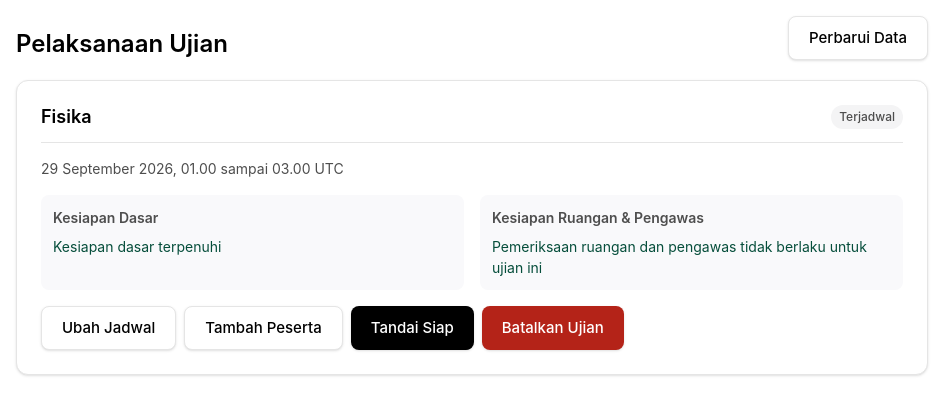
Scenario: teacher exam operations › marks a ready-to-go scheduled exam as READY and reloads
Expected: the text "Terjadwal" is shown, [831, 105, 903, 129]
Click the button "Tandai Siap" at (412, 328), box [351, 306, 474, 350]
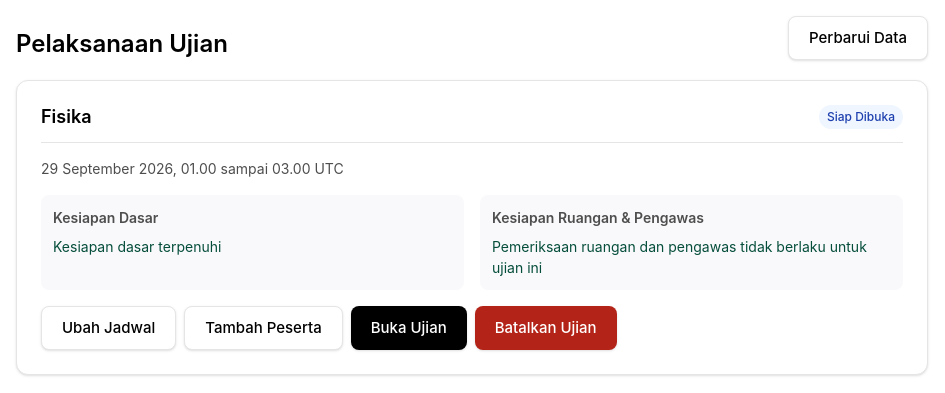
Now the text "Siap Dibuka" is shown, box [819, 105, 903, 129]
Now the button "Buka Ujian" is shown, box [351, 306, 467, 350]
